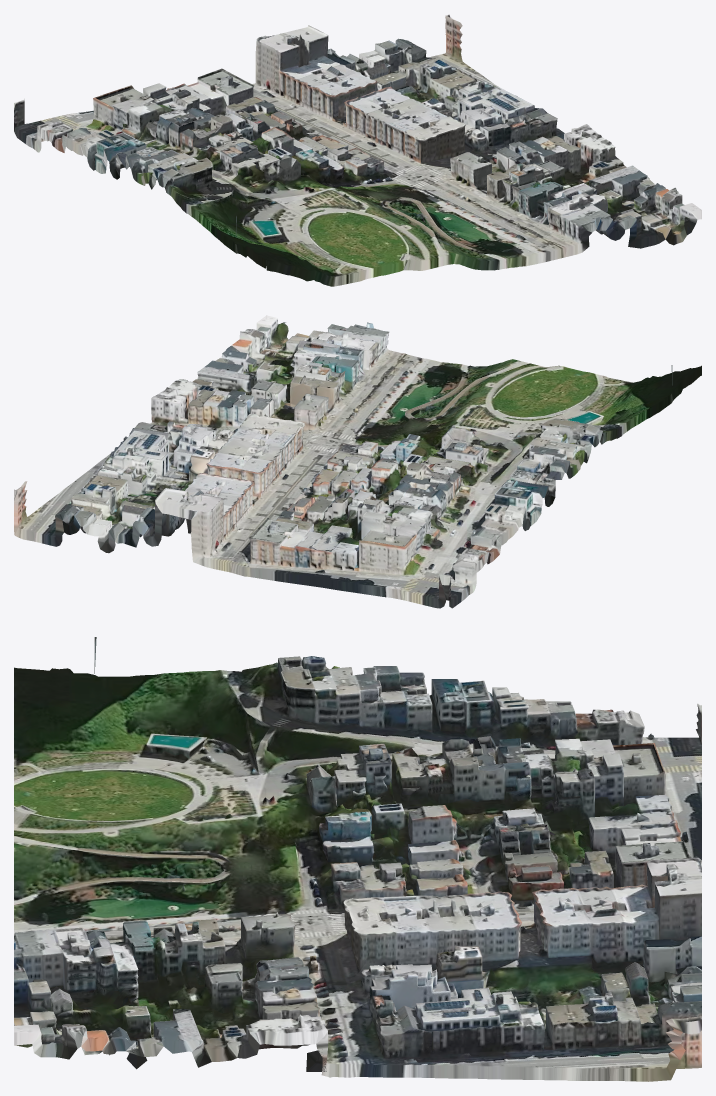
Rendered from z17-20963-50648-h0-yup-uvflip-v3-world.glb.
The picture shows the model from 3 angles, top to bottom: view 1: azimuth 30°, elevation 25°; view 2: azimuth 150°, elevation 25°; view 3: azimuth 270°, elevation 25°; orthographic projection. The views are drawn at different scales.
Bounding box in the file's own units: 241 × 61.12 × 243.
1 material, 1 textured.
